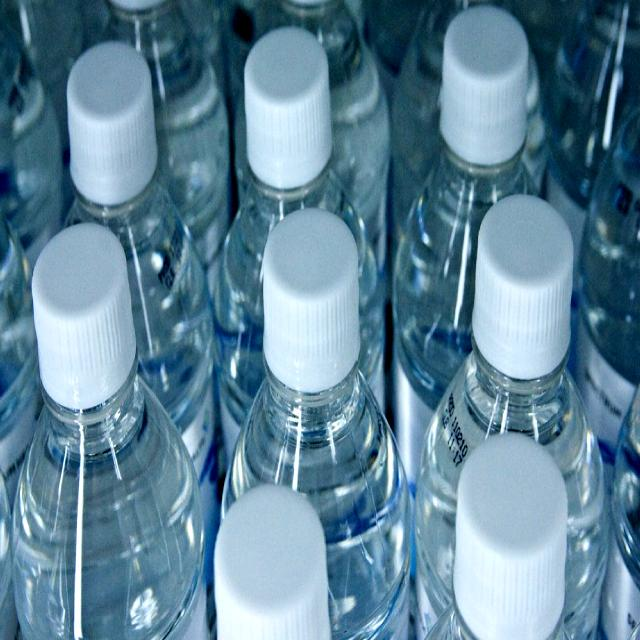full-bottle: (11, 8, 619, 637)
